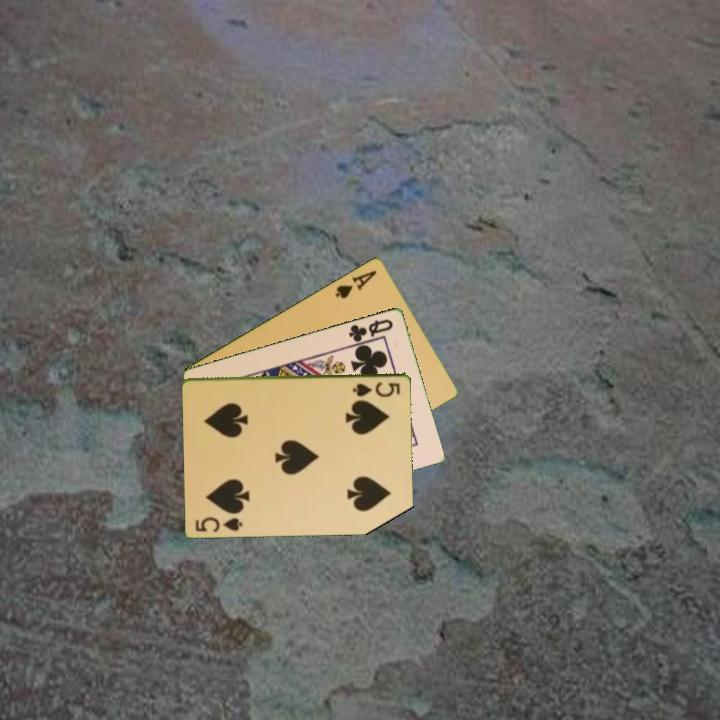5s: (192, 513, 245, 535), (349, 378, 403, 399)
As: (331, 266, 380, 301)
Qc: (345, 315, 396, 345)
